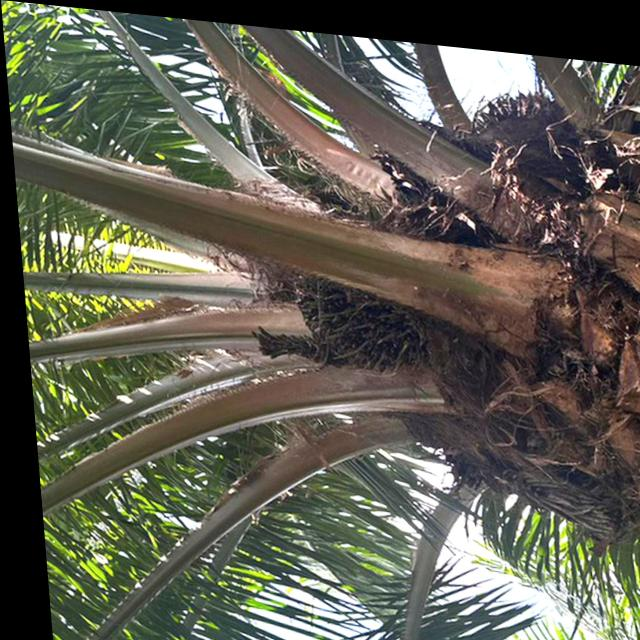unripe: (283, 240, 437, 374)
